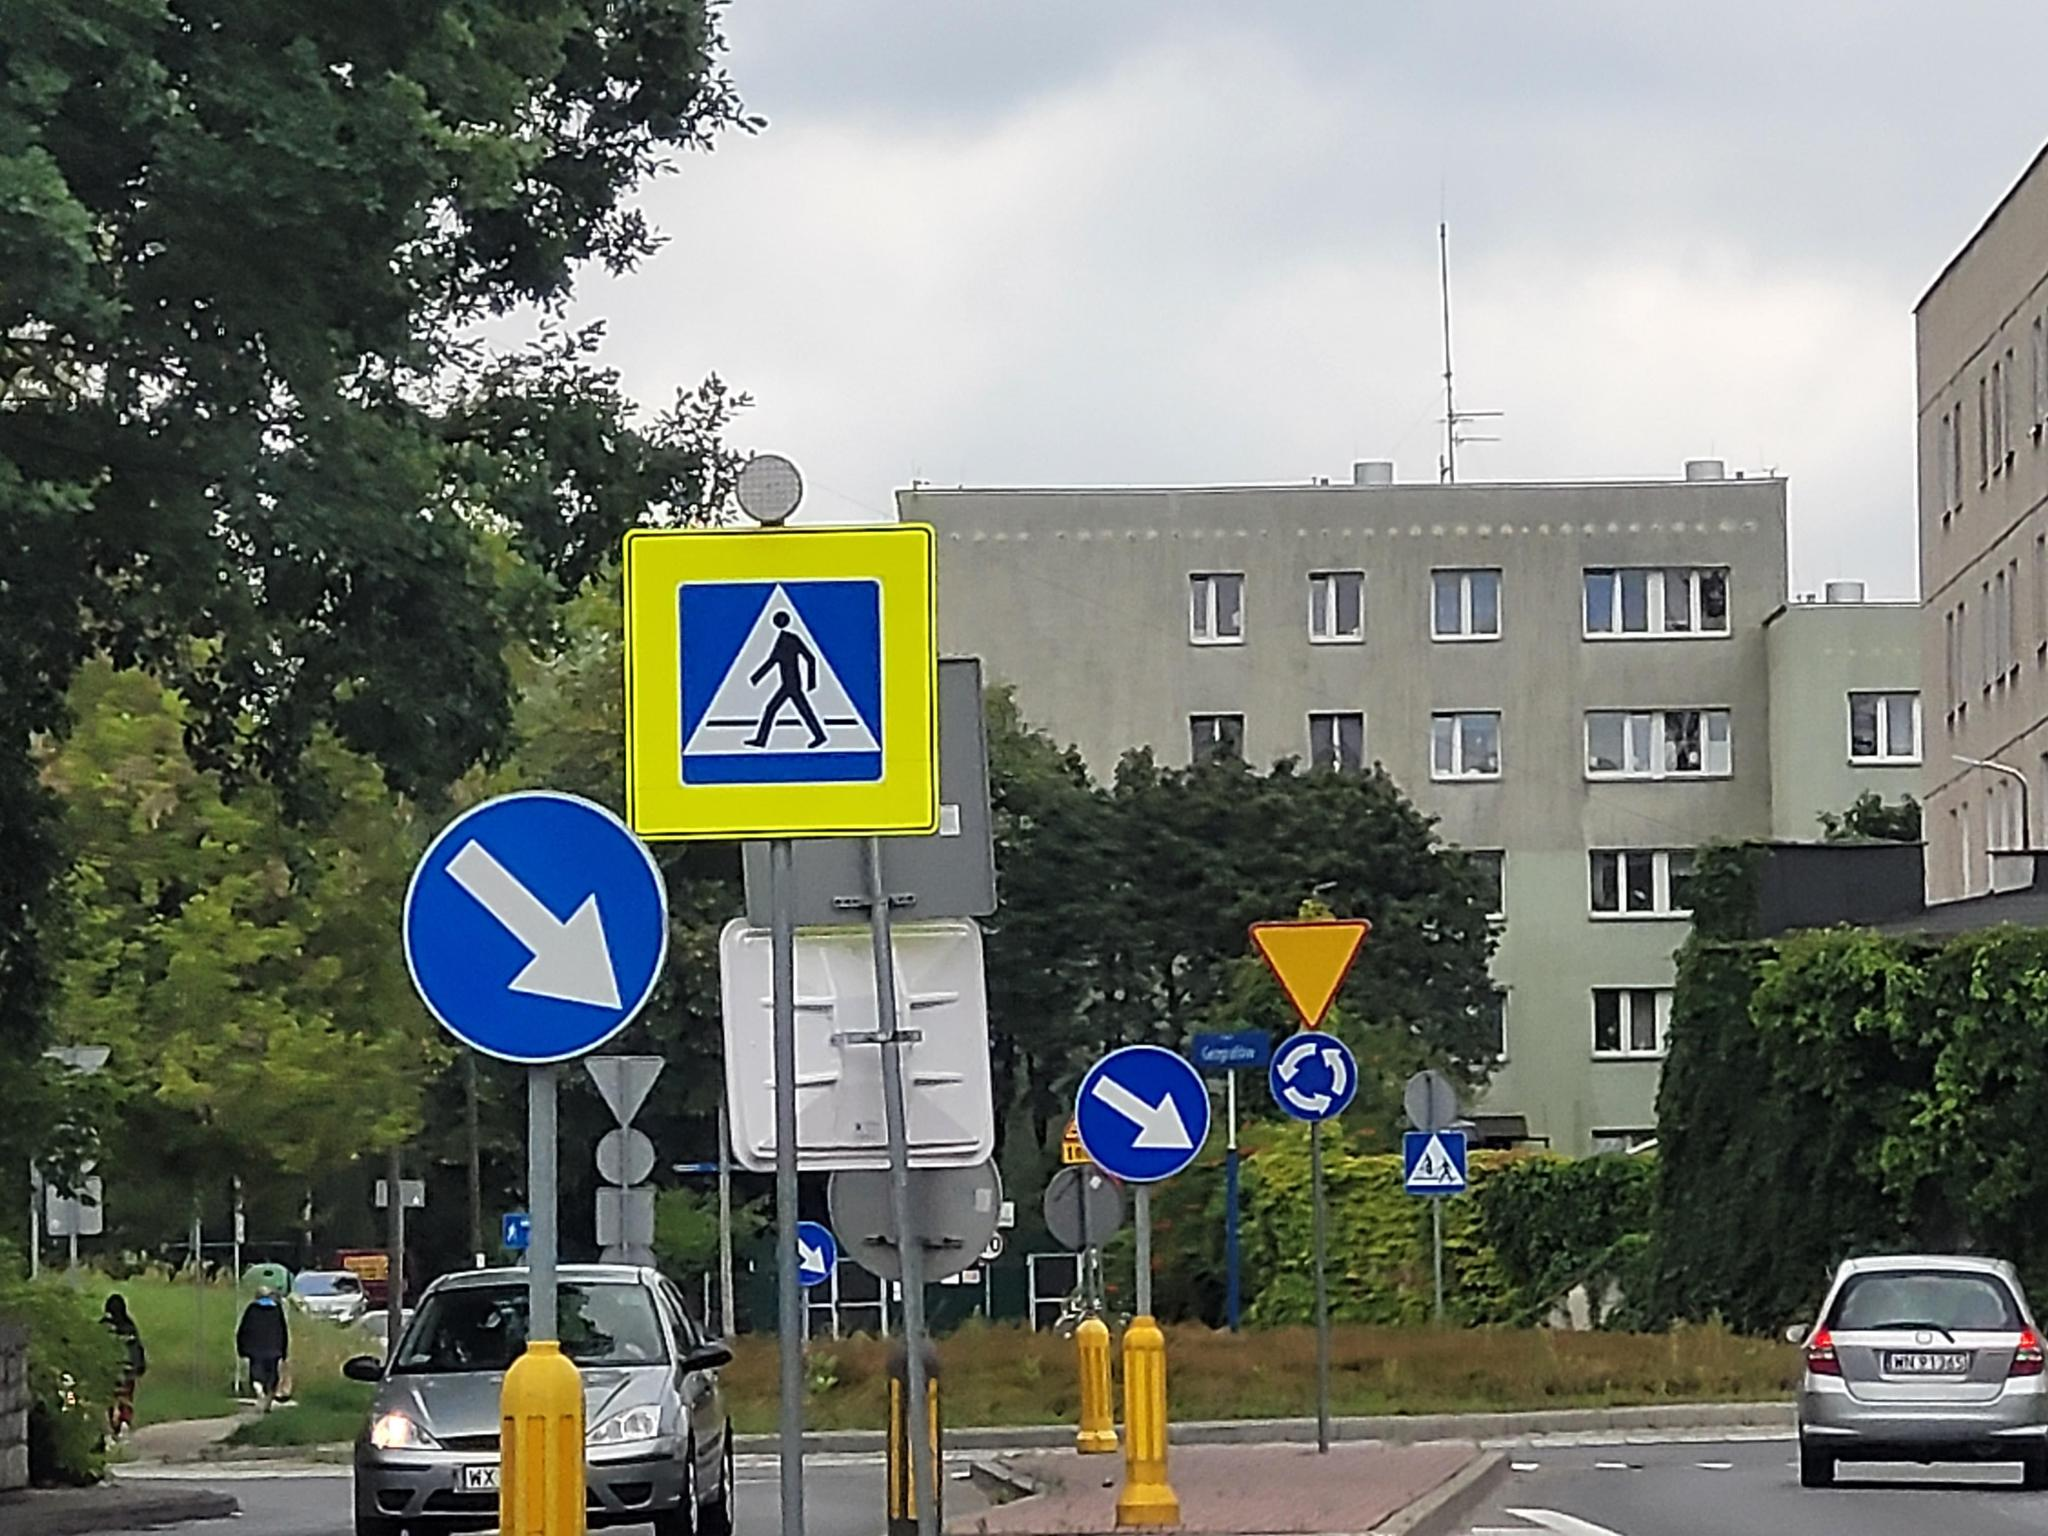information: (677, 581, 882, 786), (1405, 1131, 1464, 1191)
mandatory: (400, 792, 671, 1070), (1074, 1044, 1211, 1184), (1268, 1033, 1361, 1121), (797, 1221, 839, 1286)
warning: (1250, 918, 1372, 1031)
